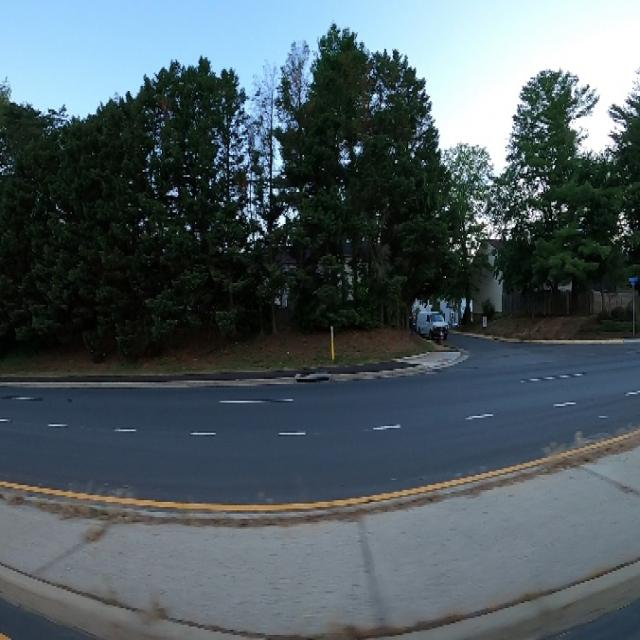car: (415, 303, 452, 349)
